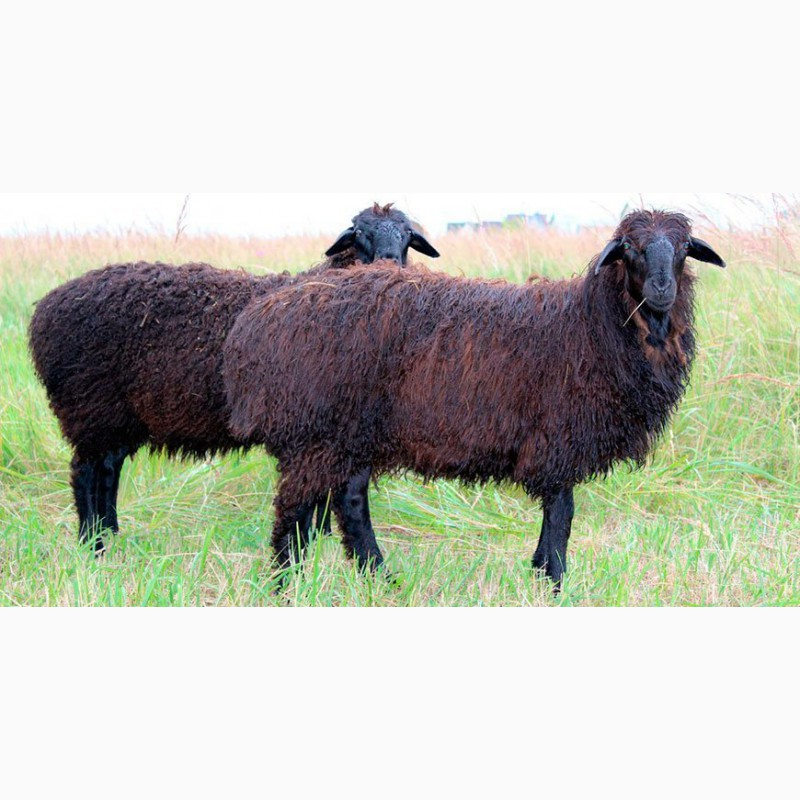sheep: (228, 205, 725, 582)
